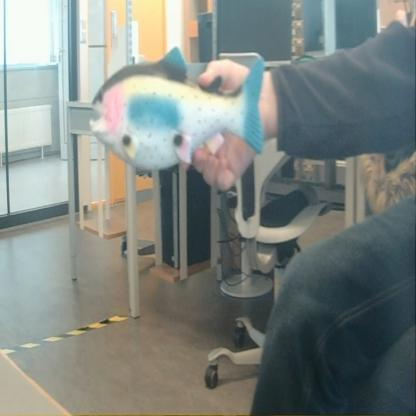rubberfish: (86, 39, 272, 178)
